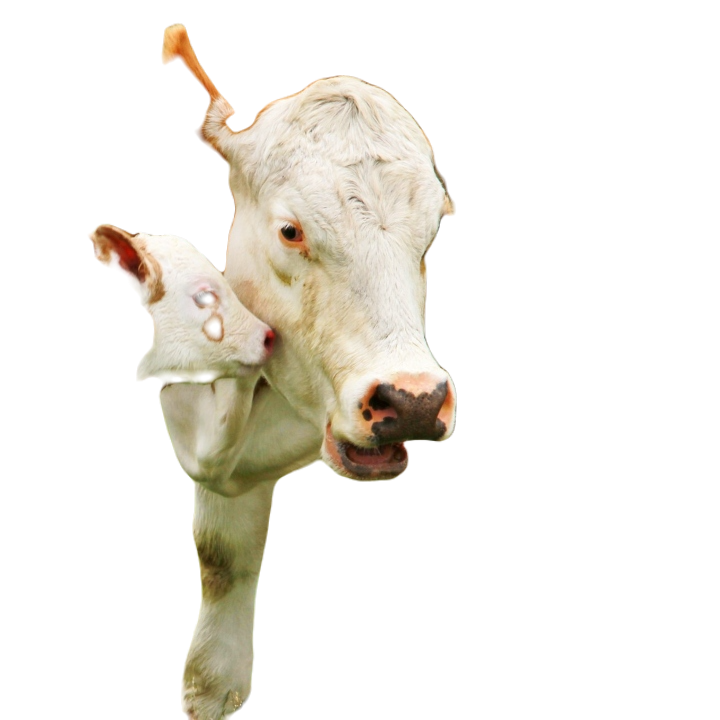Cow: (155, 18, 461, 719)
